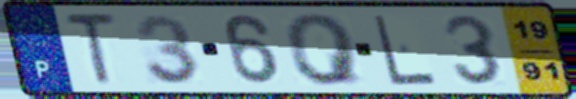3: (132, 12, 203, 87), (442, 12, 509, 88)
6: (222, 13, 283, 86)
L: (370, 12, 440, 88)
Q: (282, 12, 368, 88)
T: (61, 10, 120, 87)
